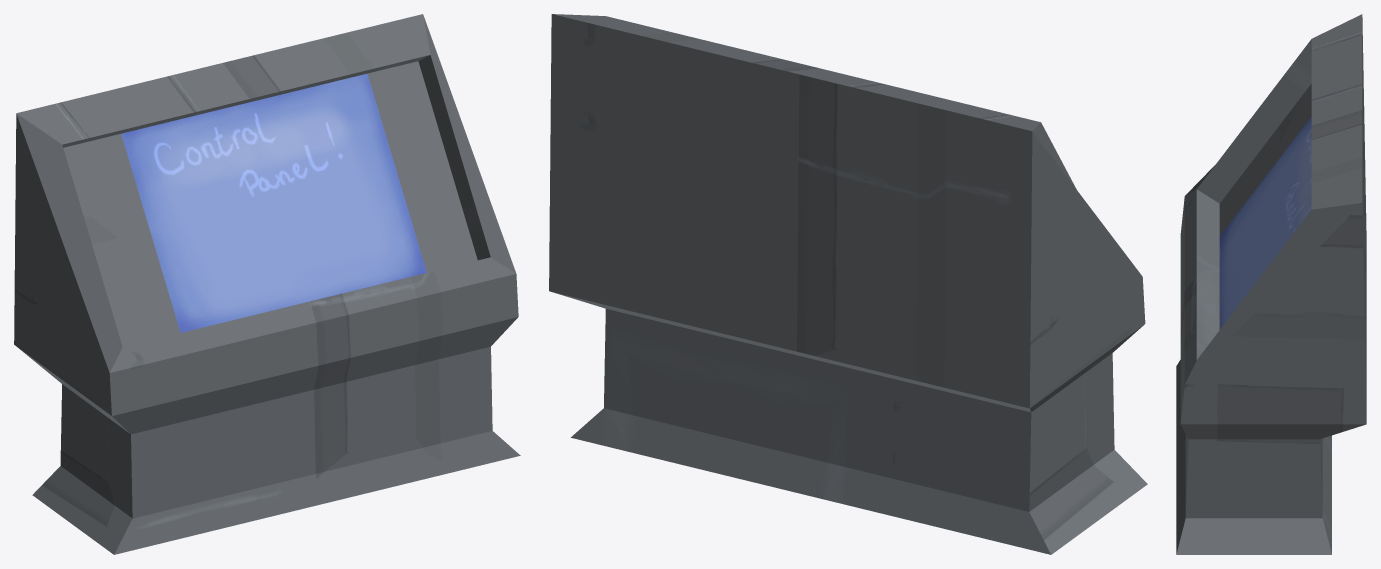
The model's file is controlPanel.fbx.
3 views of the same model, side by side, from view 1: azimuth 30°, elevation 25°; view 2: azimuth 150°, elevation 25°; view 3: azimuth 270°, elevation 25° (orthographic). The views are drawn at different scales.
Visible parts, largest first — view 1: Cube; view 2: Cube; view 3: Cube.
Boxes of the visible parts, box(x1,y1,x2,y2) form: Cube: box(14, 14, 520, 554); Cube: box(549, 14, 1147, 554); Cube: box(1176, 14, 1366, 554).
Bounding box in the file's own units: 1.18 × 1.03 × 0.5036.
